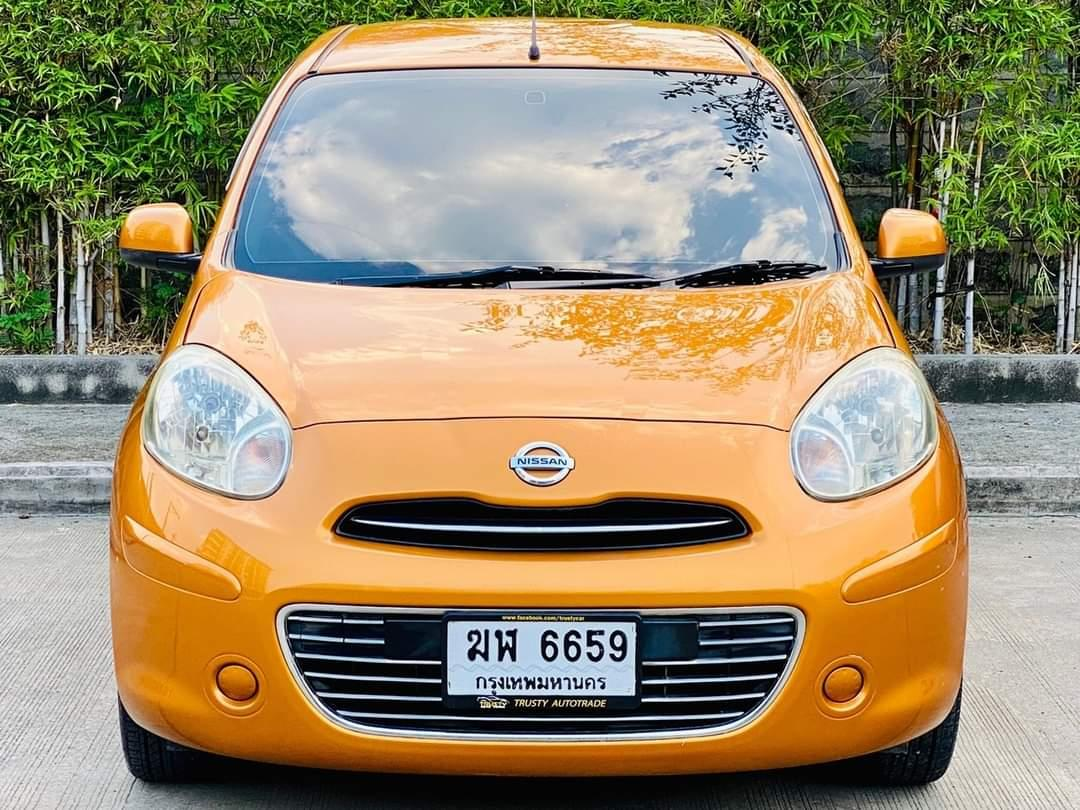license-plate: (437, 606, 642, 722)
